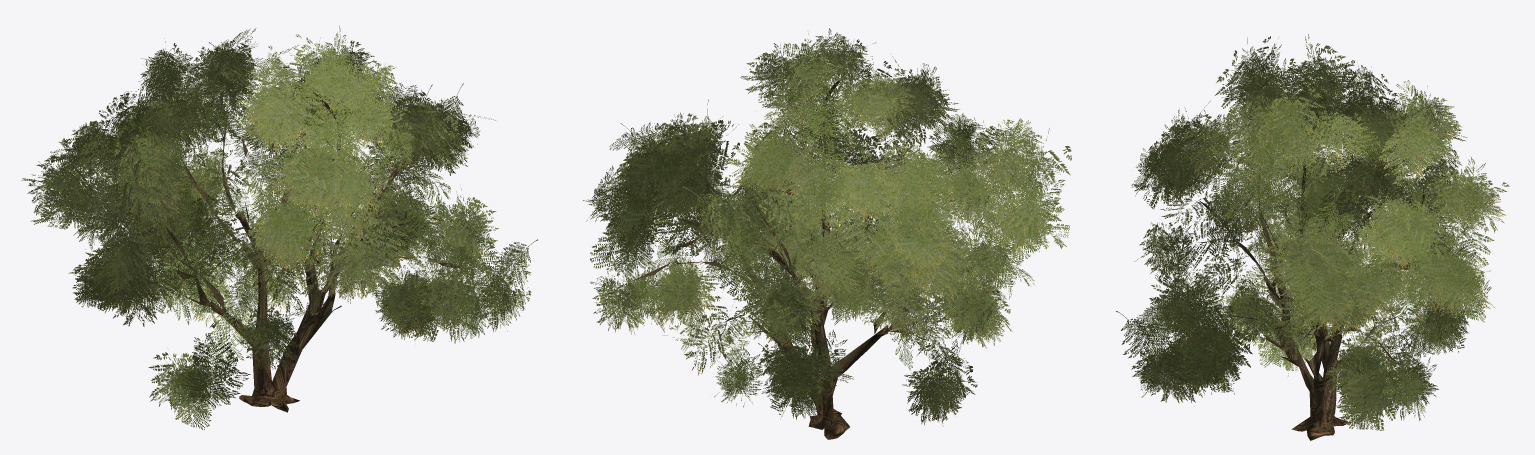
The model's file is arbol_jacaranda_lod0.glb.
3 views of the same model, side by side, from view 1: azimuth 30°, elevation 25°; view 2: azimuth 150°, elevation 25°; view 3: azimuth 270°, elevation 25° (orthographic). The views are drawn at different scales.
Parts seen in each view (by area): view 1: jacaranda_tree_LOD0; view 2: jacaranda_tree_LOD0; view 3: jacaranda_tree_LOD0.
Boxes of the visible parts, x1,y1,x2,y2 form: jacaranda_tree_LOD0: (21,25,537,429); jacaranda_tree_LOD0: (583,28,1071,439); jacaranda_tree_LOD0: (1116,34,1509,440).
Size of the model in its own units: 16.47 by 13 by 13.03.
Materials: 3 (3 with a texture image).
